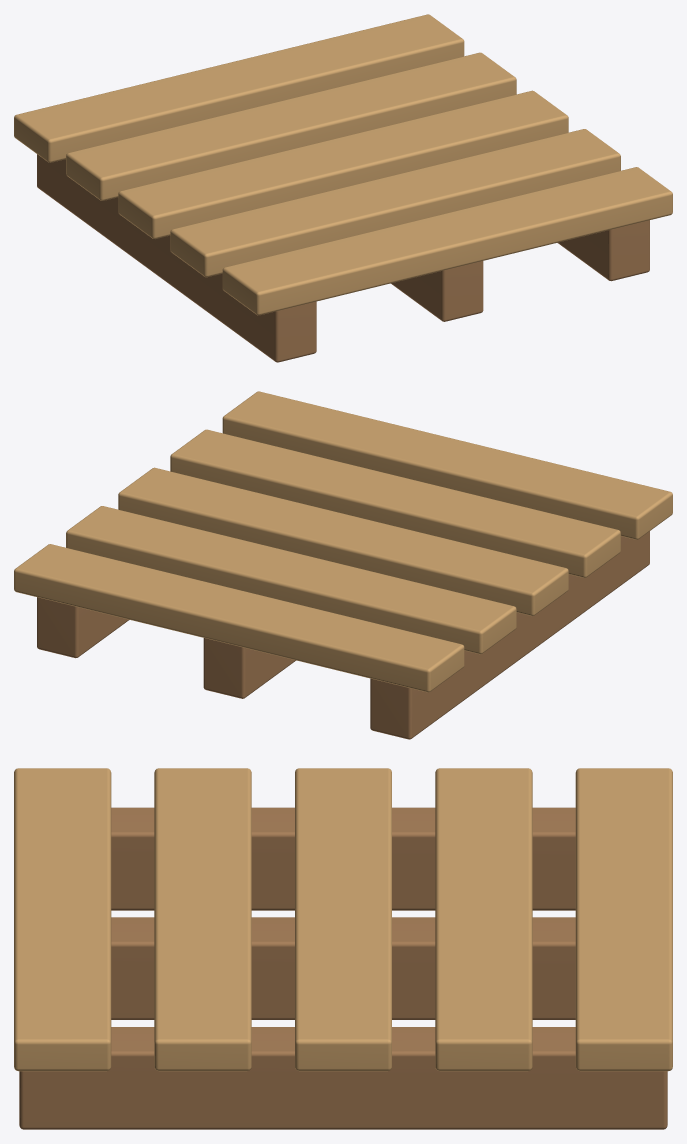
Rendered from SM_EG_WoodPallet_fe31a1a362.fbx.
3 renders of one model, top to bottom at view 1: azimuth 30°, elevation 25°; view 2: azimuth 150°, elevation 25°; view 3: azimuth 270°, elevation 25°, orthographic. The views are drawn at different scales.
Parts seen in each view (by area): view 1: SM_EG_WoodPallet_fe31a1a362; view 2: SM_EG_WoodPallet_fe31a1a362; view 3: SM_EG_WoodPallet_fe31a1a362.
Boxes of the visible parts, x1,y1,x2,y2 form: SM_EG_WoodPallet_fe31a1a362: [14, 14, 672, 362]; SM_EG_WoodPallet_fe31a1a362: [14, 391, 672, 739]; SM_EG_WoodPallet_fe31a1a362: [14, 768, 672, 1129].
Size of what is drawn, in the model's own units: 120 by 122 by 21.25.
